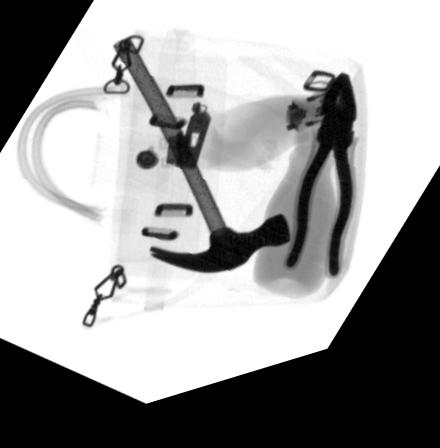Hammer: (113, 47, 289, 285)
Pliers: (281, 92, 359, 299)
